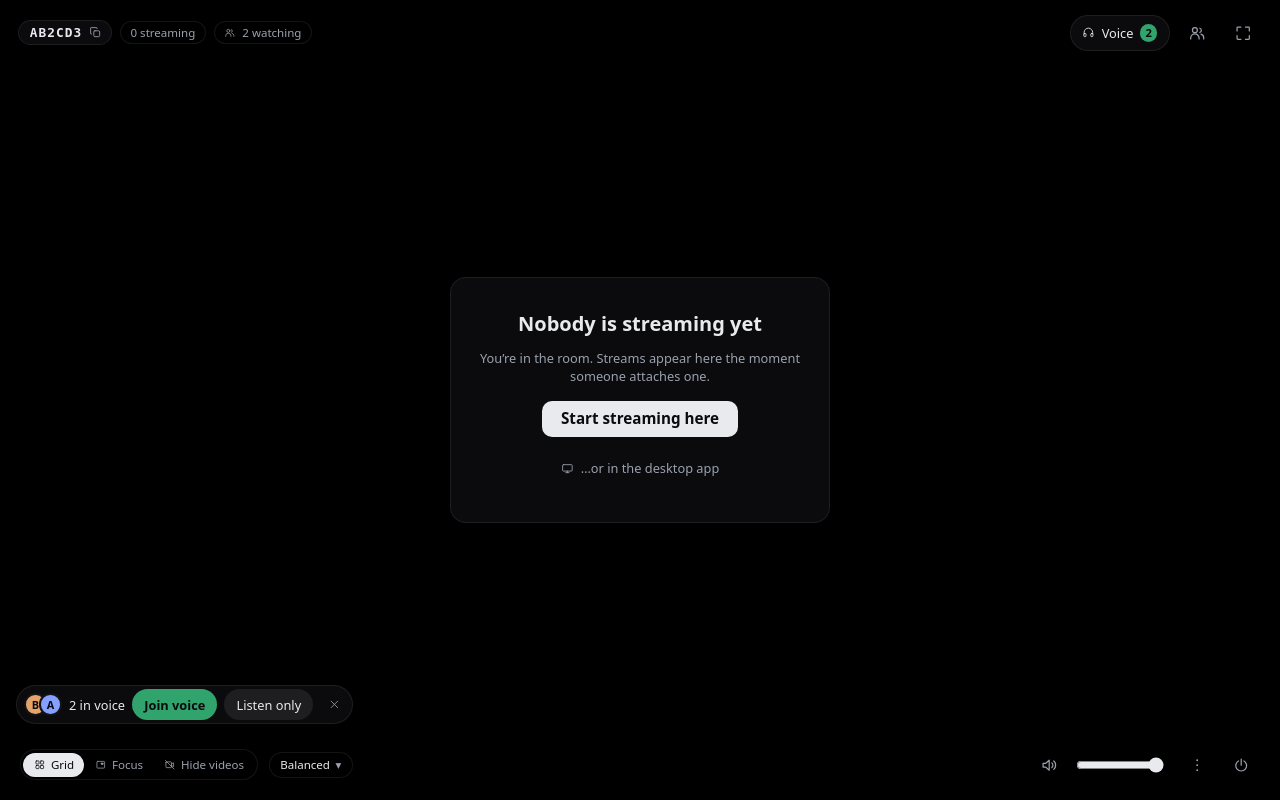
Test: room voice UI › mute and deafen tell Mumble; a server mute disables the mic with the reason
Click the button "Voice 2".
click(1120, 33)  # box x1=1070 y1=15 x2=1170 y2=51
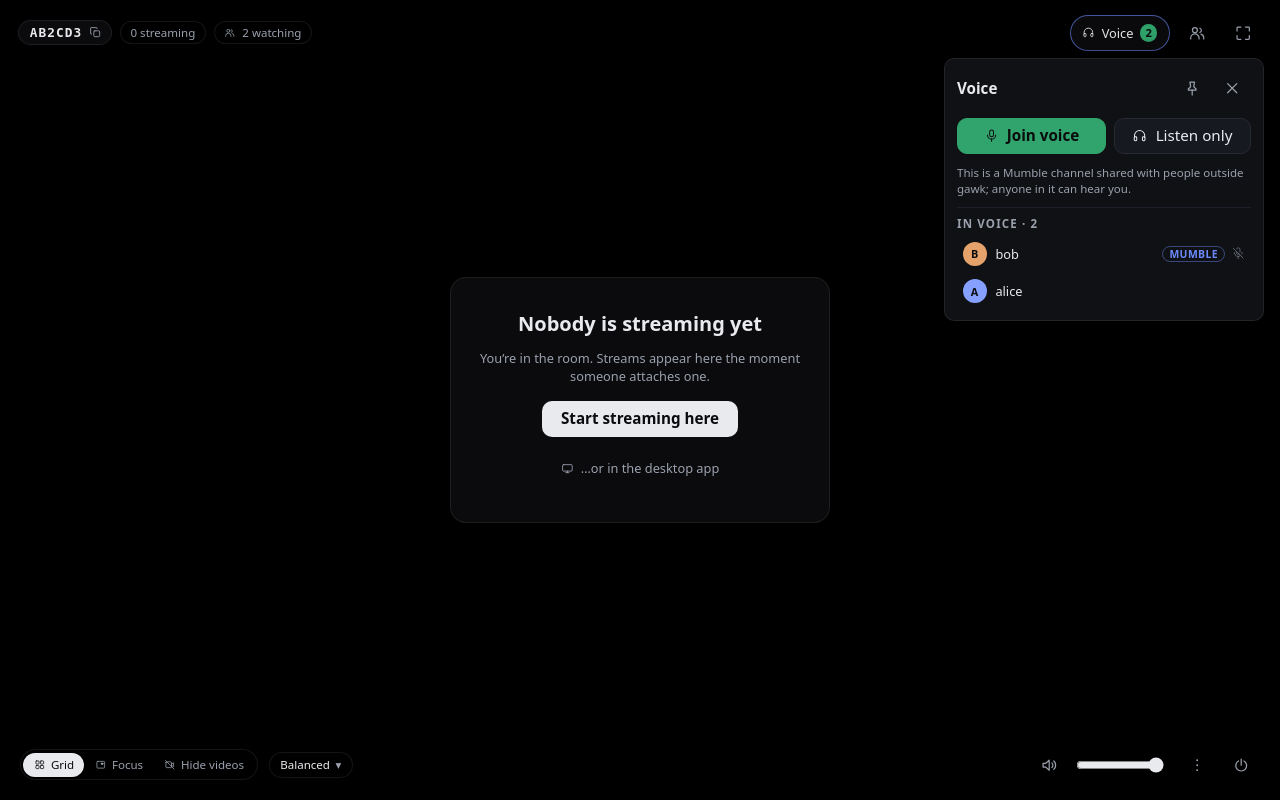
Click the button "Join voice".
click(1031, 136)  # box x1=957 y1=118 x2=1106 y2=154
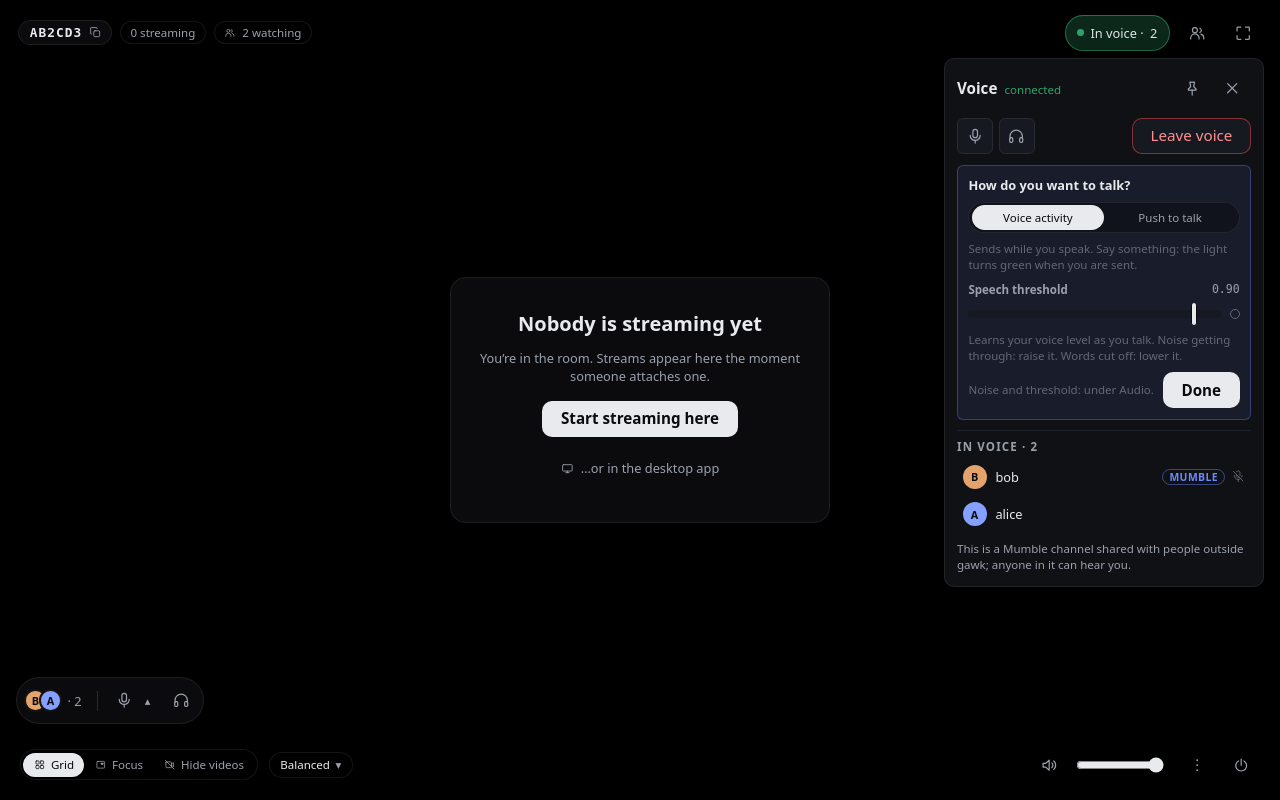
Click the 2nd button named "Mute microphone".
click(124, 701)  # box x1=105 y1=681 x2=143 y2=720
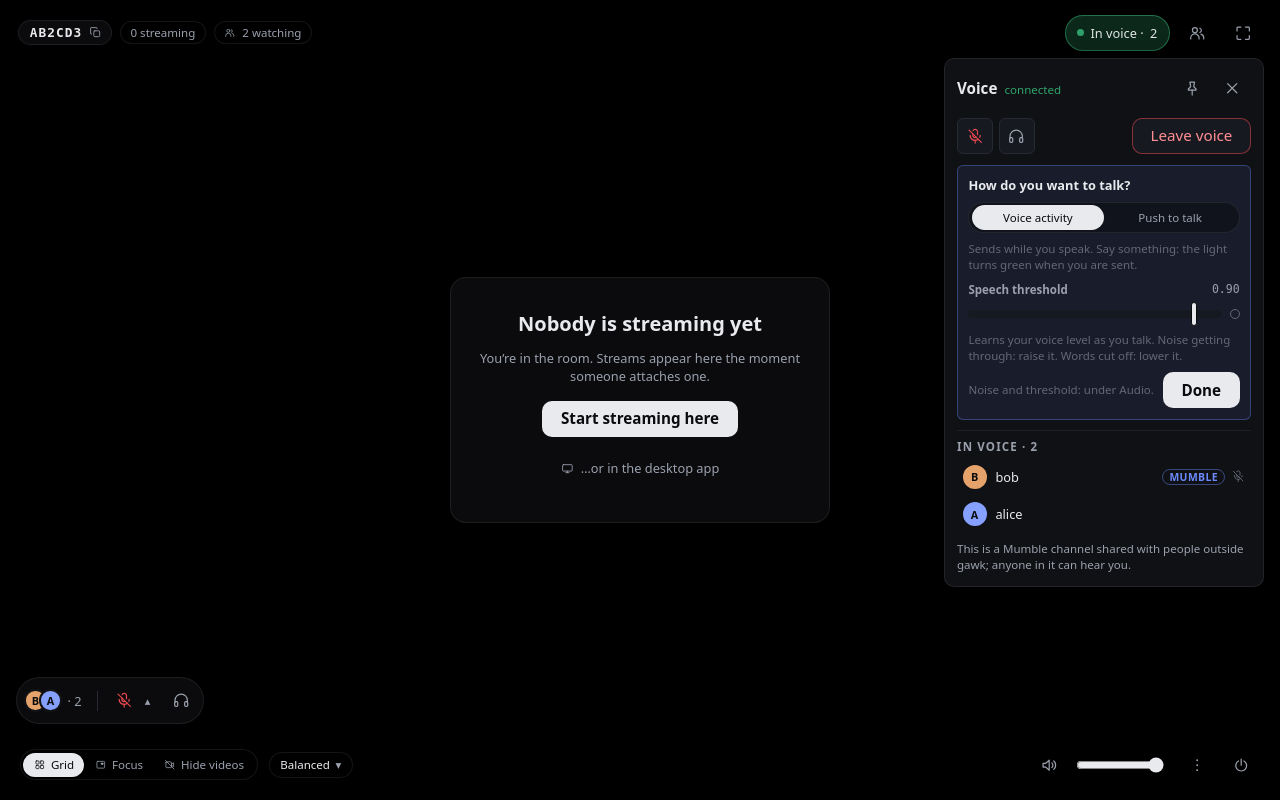
Click the 2nd button named "Unmute microphone".
click(124, 701)  # box x1=105 y1=681 x2=143 y2=720
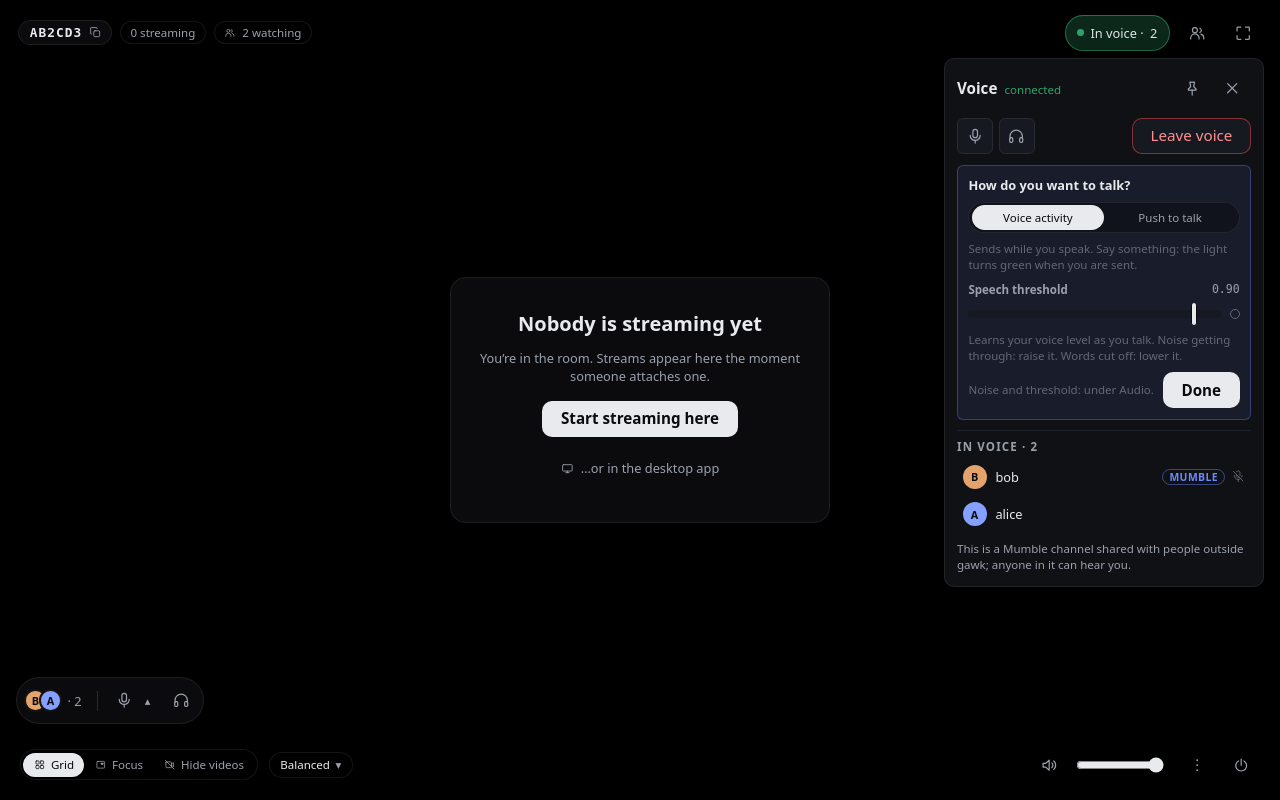
Click the 2nd button named "Deafen".
click(181, 701)  # box x1=162 y1=681 x2=200 y2=720
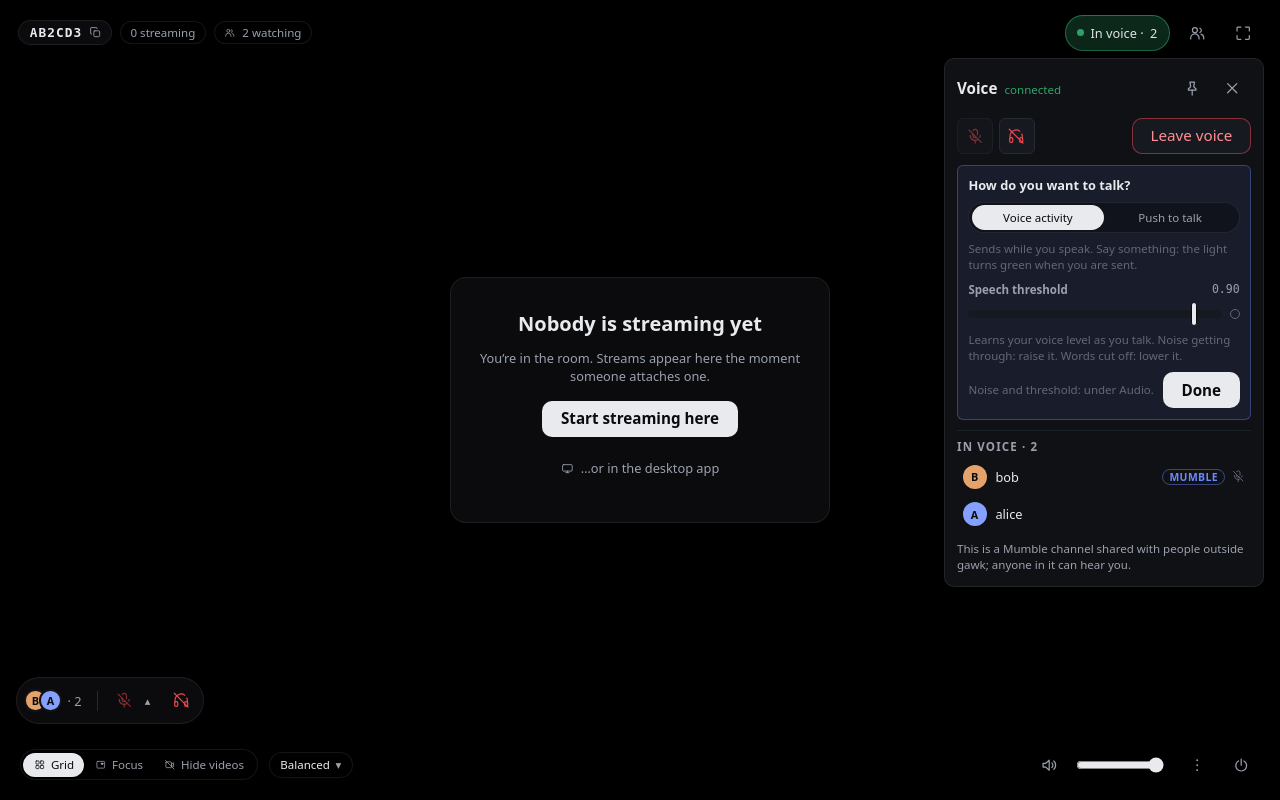
Click the 2nd button named "Undeafen".
click(181, 701)  # box x1=162 y1=681 x2=200 y2=720
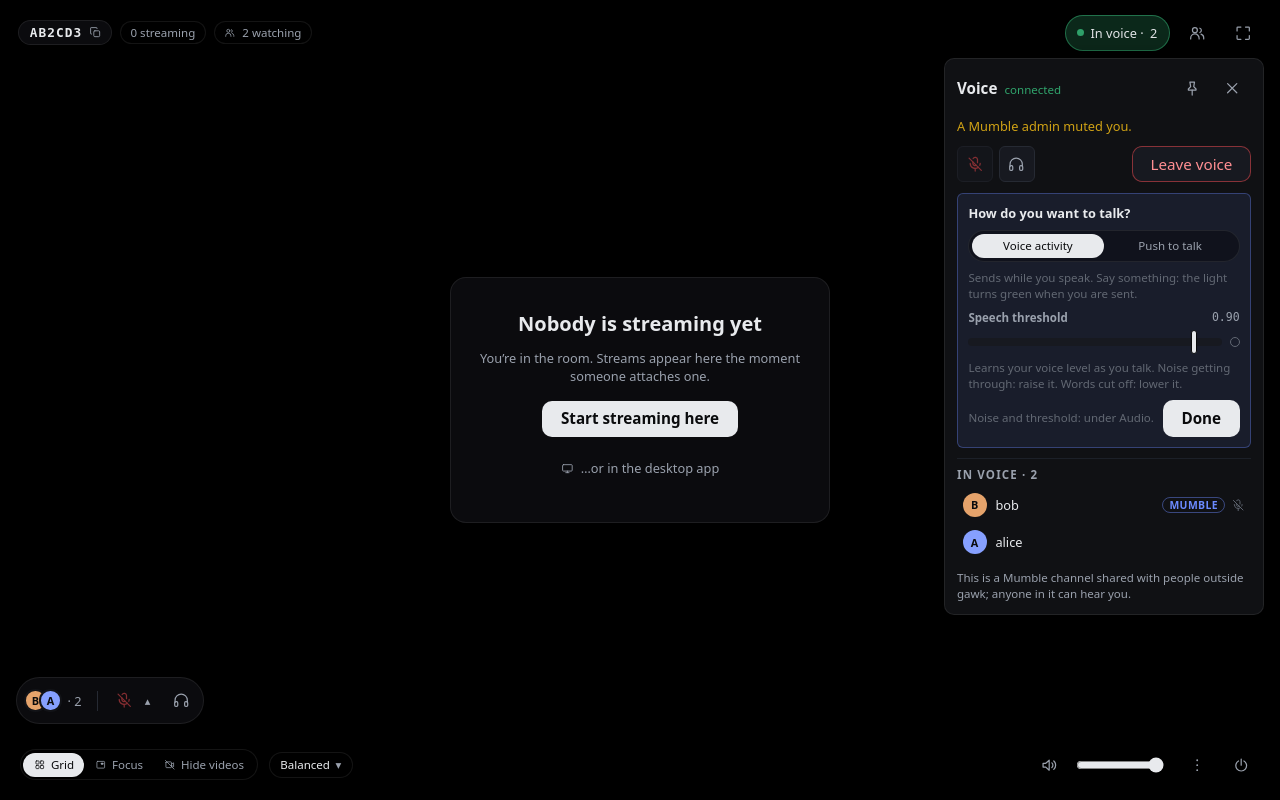
Now the 2nd button named "A Mumble admin muted you." is disabled, box x1=105 y1=681 x2=143 y2=720
Now the text "A Mumble admin muted you." is shown, box x1=957 y1=117 x2=1132 y2=135
